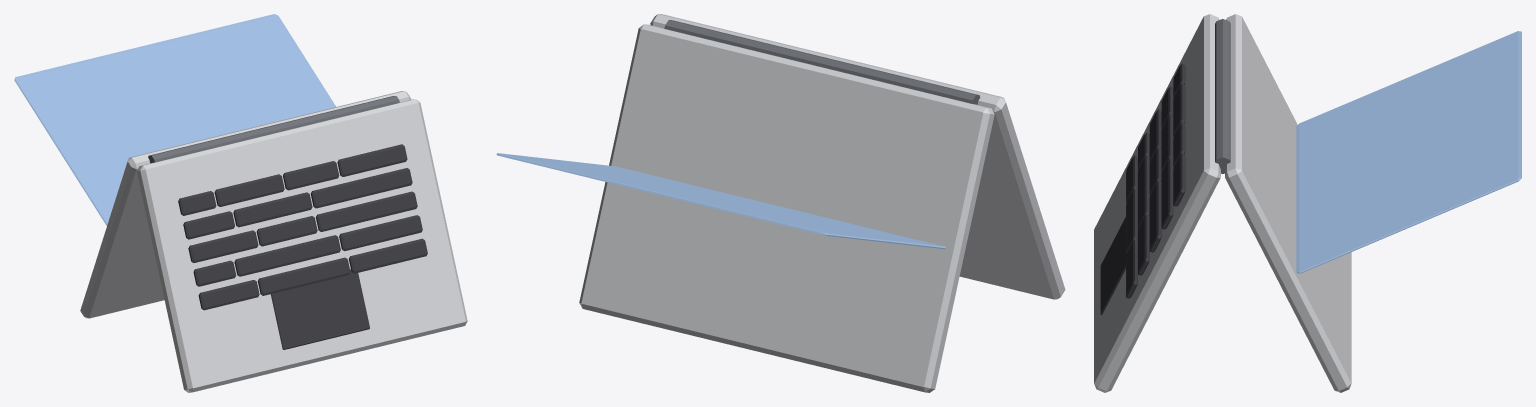
File: computers-and-desk-gadgets-laptop-convertible-tent-a76f0499__38826.glb
The picture shows the model from 3 angles, left to right: view 1: azimuth 30°, elevation 25°; view 2: azimuth 150°, elevation 25°; view 3: azimuth 270°, elevation 25°; orthographic projection. The views are drawn at different scales.
Visible parts, largest first — view 1: laptop-convertible-tent; view 2: laptop-convertible-tent; view 3: laptop-convertible-tent.
Boxes of the visible parts, x1=… form: laptop-convertible-tent: x1=14, y1=14, x2=467, y2=392; laptop-convertible-tent: x1=496, y1=14, x2=1065, y2=392; laptop-convertible-tent: x1=1094, y1=14, x2=1521, y2=392.
Bounding box in the file's own units: 0.32 × 0.2148 × 0.3655.
